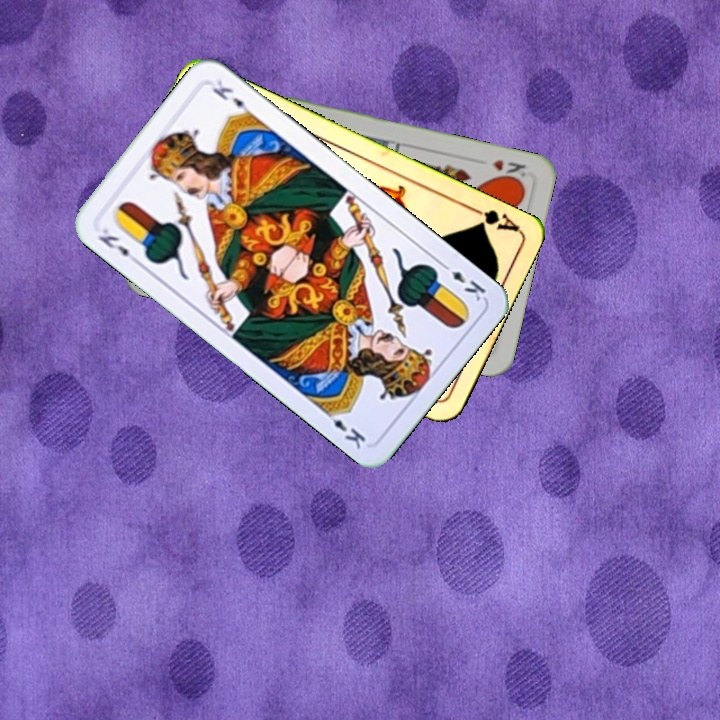EK: (436, 258, 489, 304), (94, 224, 143, 267)
GA: (464, 201, 521, 235)
HK: (488, 155, 529, 180)
